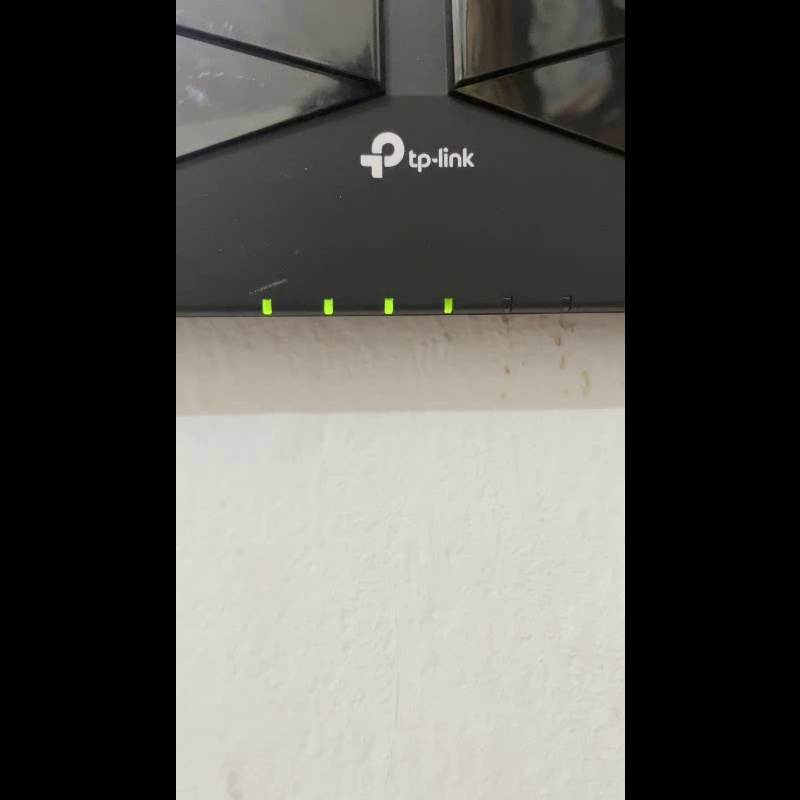off: (560, 294, 572, 310), (501, 295, 511, 312)
on_green: (261, 298, 272, 314), (383, 296, 393, 313), (443, 297, 453, 313), (323, 298, 333, 314)
